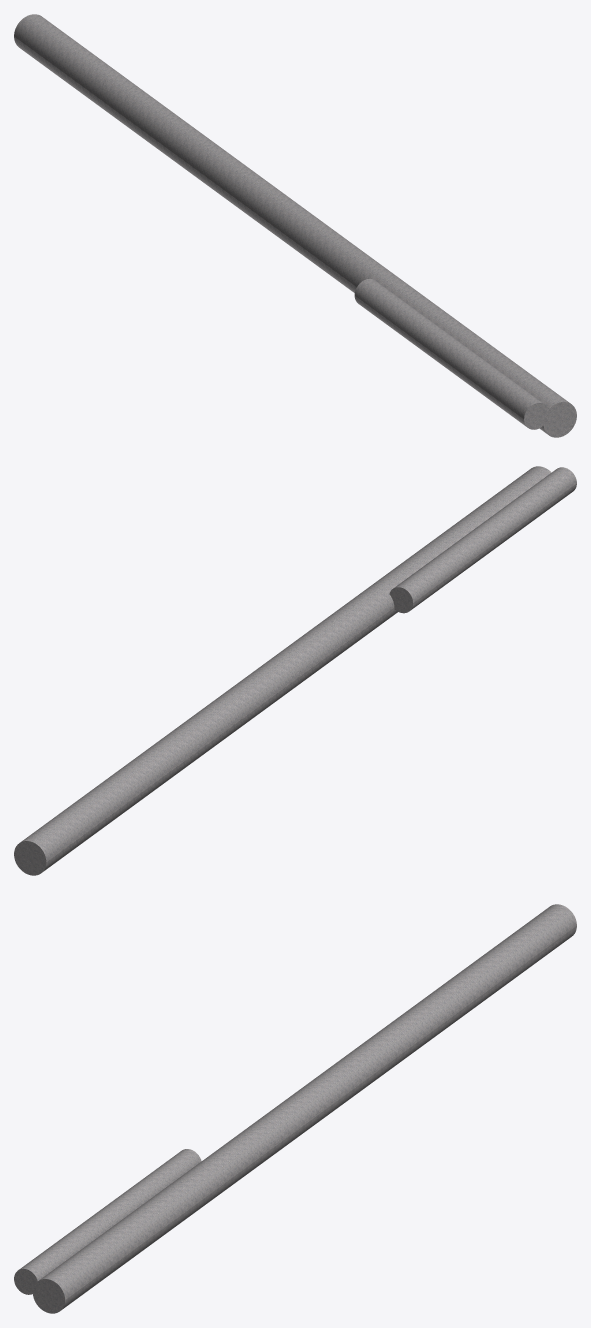
The picture shows the model from 3 angles, top to bottom: view 1: azimuth 30°, elevation 25°; view 2: azimuth 150°, elevation 25°; view 3: azimuth 330°, elevation 25°; orthographic projection. The views are drawn at different scales.
Parts seen in each view (by area): view 1: 0_0_2_1_2_3_1_2_0; view 2: 0_0_2_1_2_3_1_2_0; view 3: 0_0_2_1_2_3_1_2_0.
Part boxes in pixels (bbox=[...]): 0_0_2_1_2_3_1_2_0: bbox=[14, 14, 576, 437]; 0_0_2_1_2_3_1_2_0: bbox=[14, 466, 576, 875]; 0_0_2_1_2_3_1_2_0: bbox=[14, 904, 576, 1313].
Bounding box in the file's own units: 1.26 × 0.9102 × 21.9.
2 materials, 2 textured.
